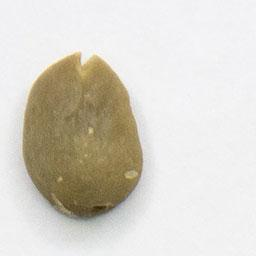premium: (20, 49, 145, 222)
